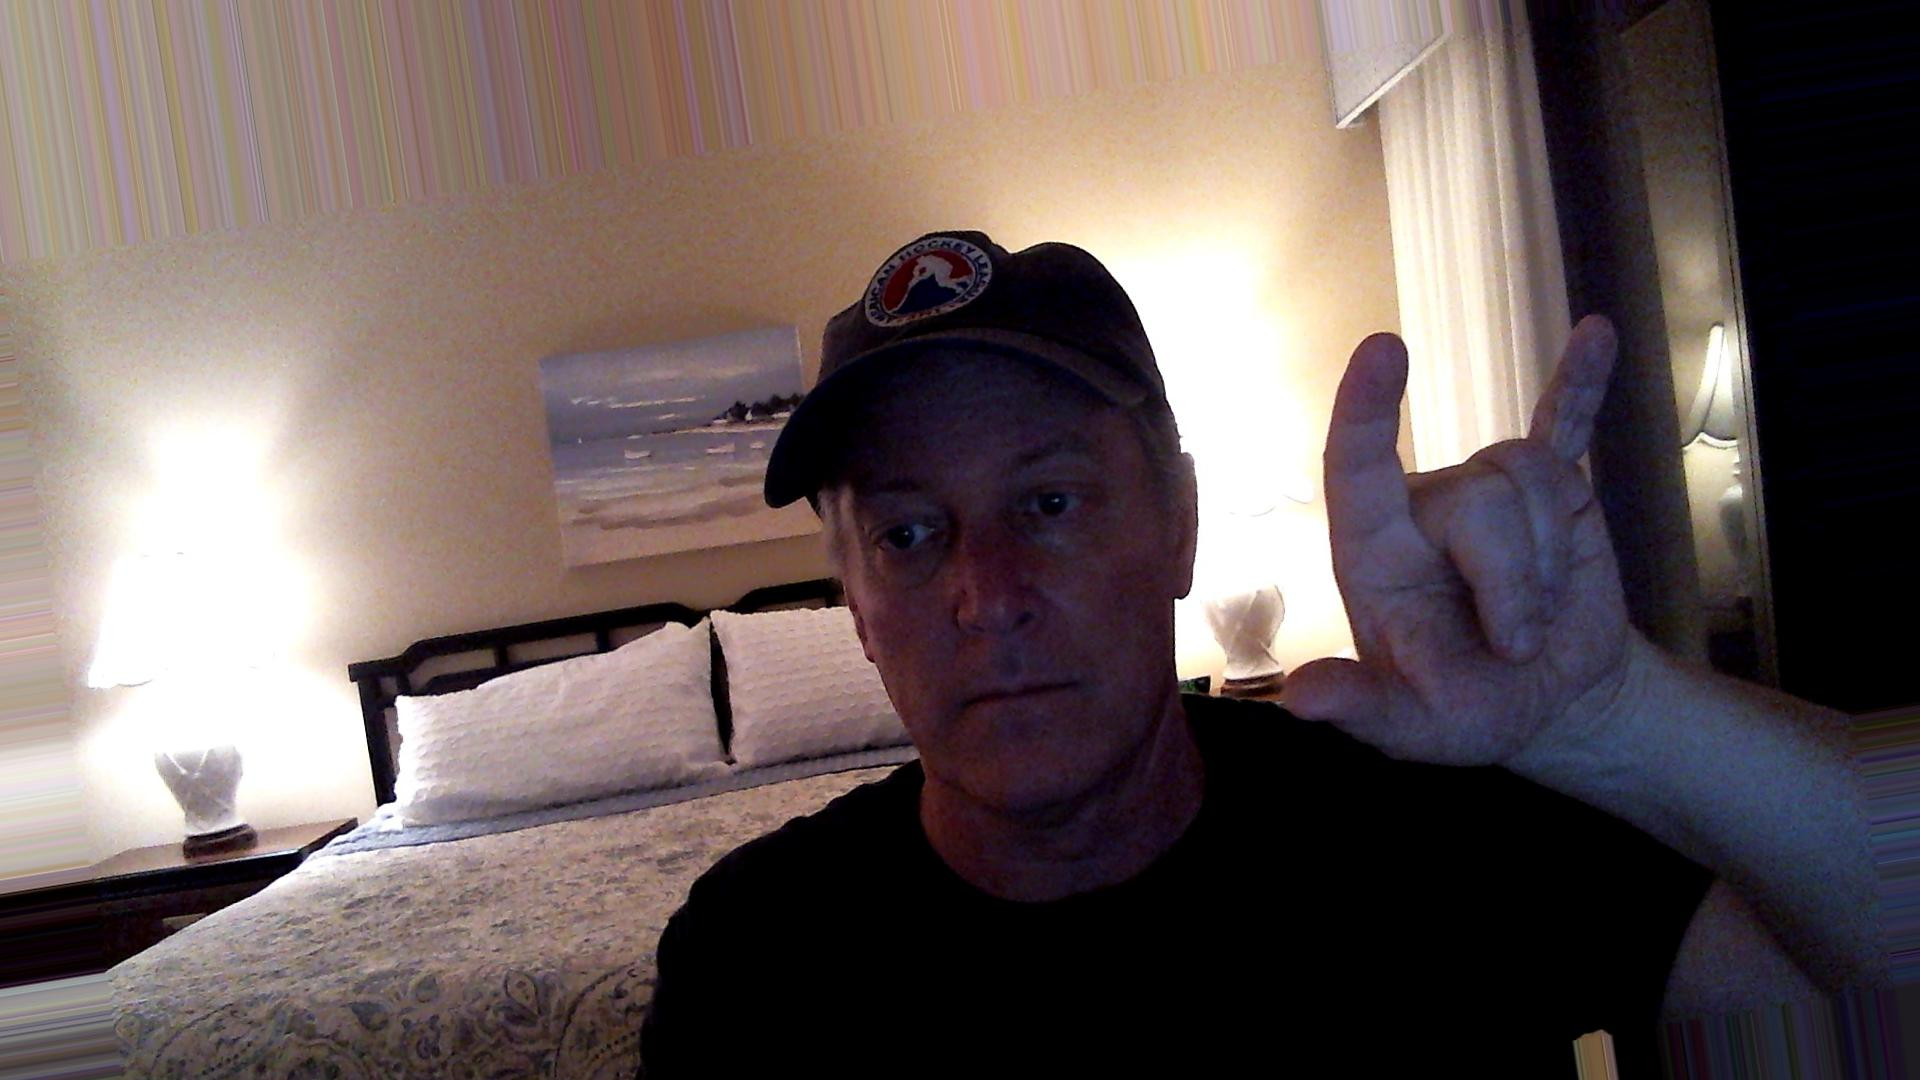I Love You: (1265, 295, 1709, 793)
